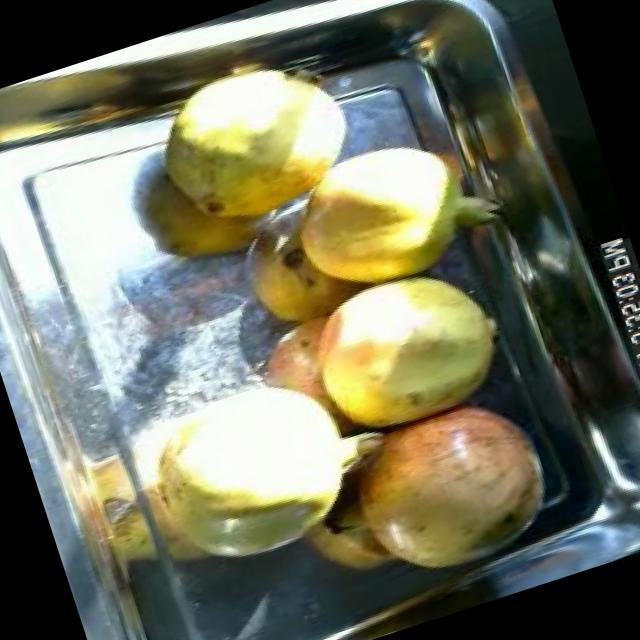fruit: (102, 338, 392, 602), (304, 366, 584, 610), (128, 32, 376, 252), (282, 243, 531, 458), (258, 115, 493, 319)
